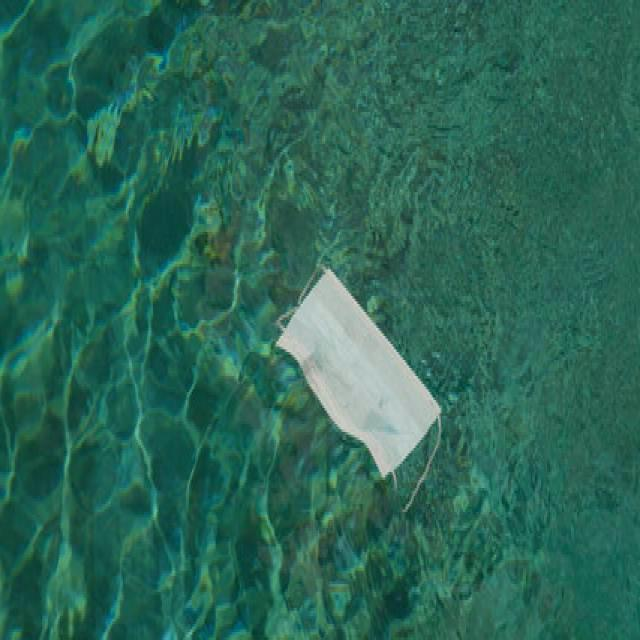Trash: (275, 262, 448, 482)
